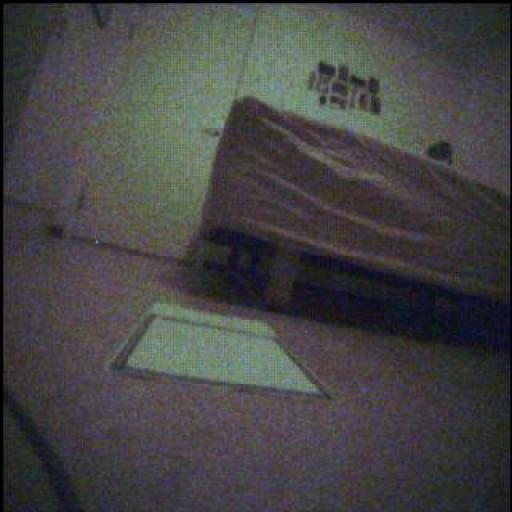pad: (112, 304, 333, 400)
